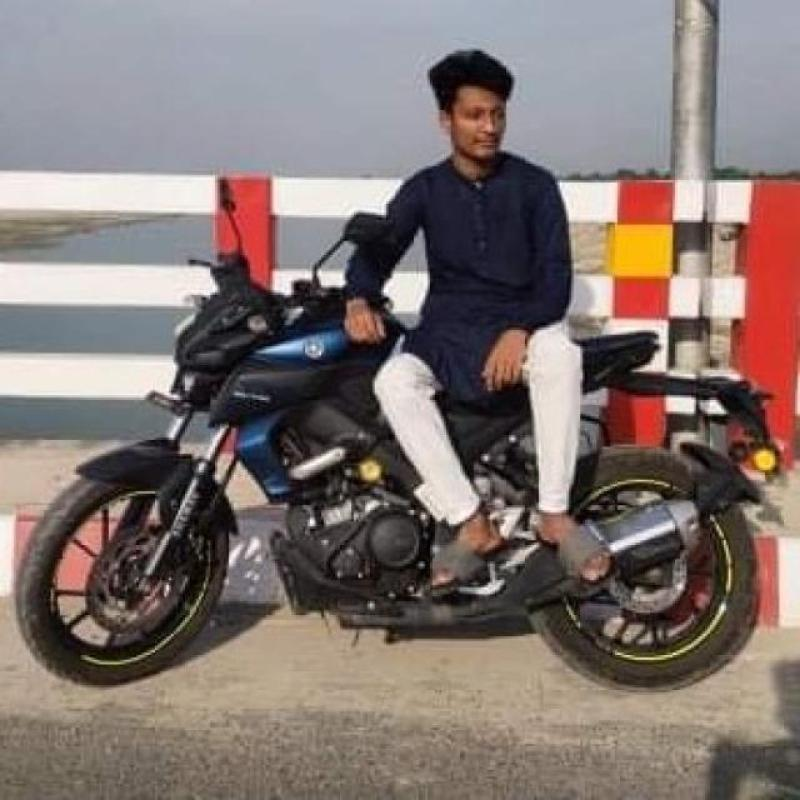nohelmet: (427, 40, 530, 160)
